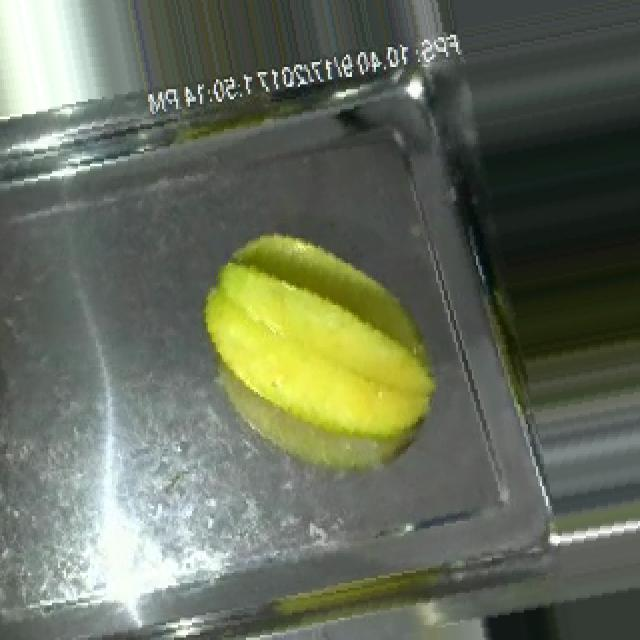fruit: (178, 181, 468, 504)
